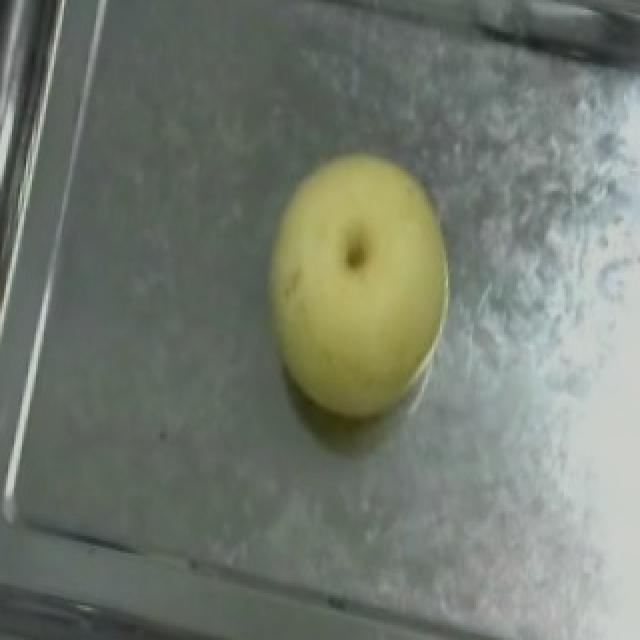Fruit: (230, 124, 488, 447)
